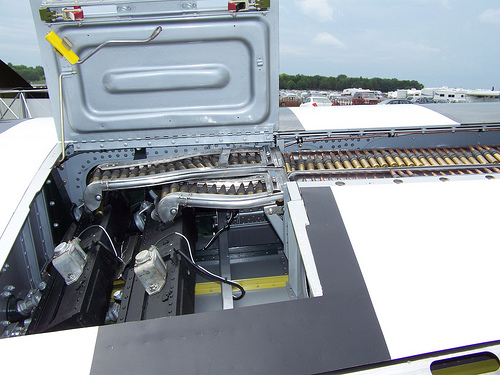rifle: (10, 25, 484, 309)
